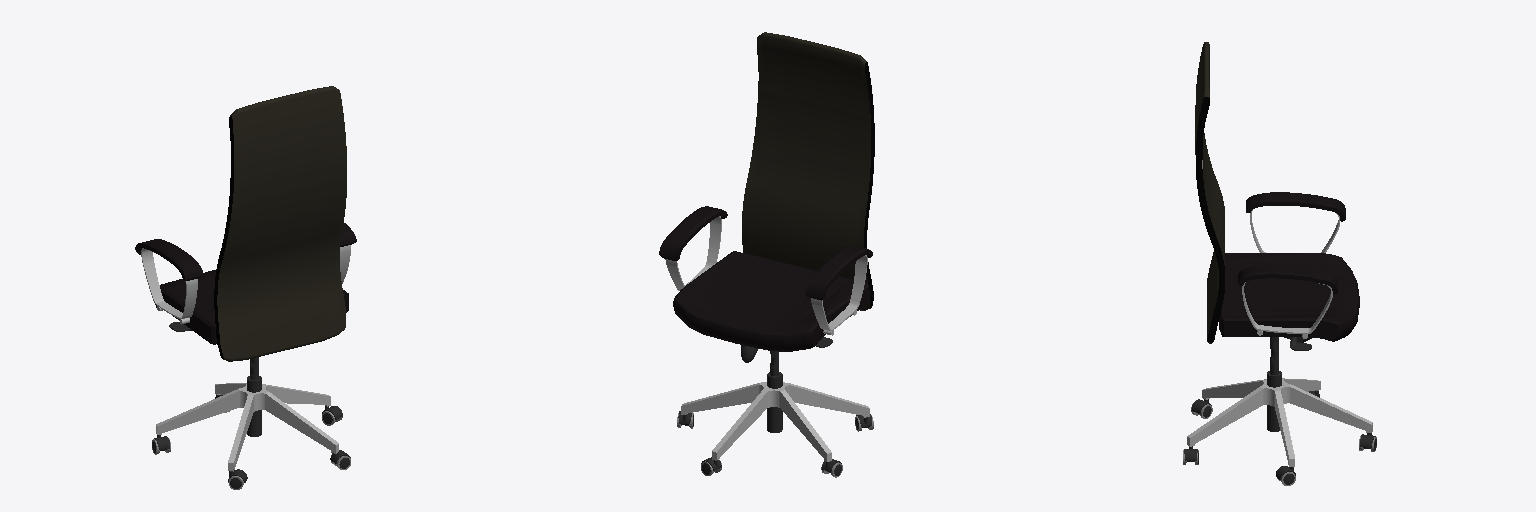
3 renders of one model, left to right at view 1: azimuth 30°, elevation 25°; view 2: azimuth 150°, elevation 25°; view 3: azimuth 270°, elevation 25°, orthographic.
Visible parts, largest first — view 1: Mesh1 Group1 Model, Mesh3 Group3 Model, Mesh6 Group6 Model, Mesh12 Group10 Armrest2 Model, Mesh13 Group11 Armrest2 Model, Mesh2 Group2 Model; view 2: Mesh1 Group1 Model, Mesh6 Group6 Model, Mesh3 Group3 Model, Mesh9 Group9 Armrest1 Model, Mesh13 Group11 Armrest2 Model, Mesh12 Group10 Armrest2 Model, Mesh8 Group8 Armrest1 Model, Mesh2 Group2 Model; view 3: Mesh6 Group6 Model, Mesh3 Group3 Model, Mesh1 Group1 Model, Mesh13 Group11 Armrest2 Model, Mesh9 Group9 Armrest1 Model, Mesh2 Group2 Model, Mesh8 Group8 Armrest1 Model.
Part boxes in pixels (x1,y1,x2,y2): Mesh1 Group1 Model: (214, 86, 346, 361); Mesh3 Group3 Model: (156, 383, 338, 471); Mesh6 Group6 Model: (155, 270, 348, 344); Mesh12 Group10 Armrest2 Model: (141, 248, 197, 318); Mesh13 Group11 Armrest2 Model: (135, 239, 203, 280); Mesh2 Group2 Model: (247, 357, 261, 436); Mesh1 Group1 Model: (742, 32, 874, 310); Mesh6 Group6 Model: (673, 251, 868, 351); Mesh3 Group3 Model: (681, 382, 869, 461); Mesh9 Group9 Armrest1 Model: (659, 206, 727, 260); Mesh13 Group11 Armrest2 Model: (805, 245, 872, 300); Mesh12 Group10 Armrest2 Model: (811, 255, 867, 330); Mesh8 Group8 Armrest1 Model: (665, 216, 721, 290); Mesh2 Group2 Model: (767, 351, 782, 432); Mesh6 Group6 Model: (1219, 253, 1359, 341); Mesh3 Group3 Model: (1187, 378, 1372, 466); Mesh1 Group1 Model: (1195, 42, 1224, 343); Mesh13 Group11 Armrest2 Model: (1246, 192, 1345, 221); Mesh9 Group9 Armrest1 Model: (1238, 265, 1337, 293); Mesh2 Group2 Model: (1267, 337, 1281, 431); Mesh8 Group8 Armrest1 Model: (1242, 282, 1332, 333).
Size of the model in its own units: 0.4522 by 0.9263 by 0.4323.